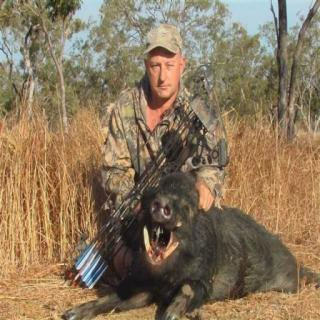Pig: (115, 170, 320, 316)
